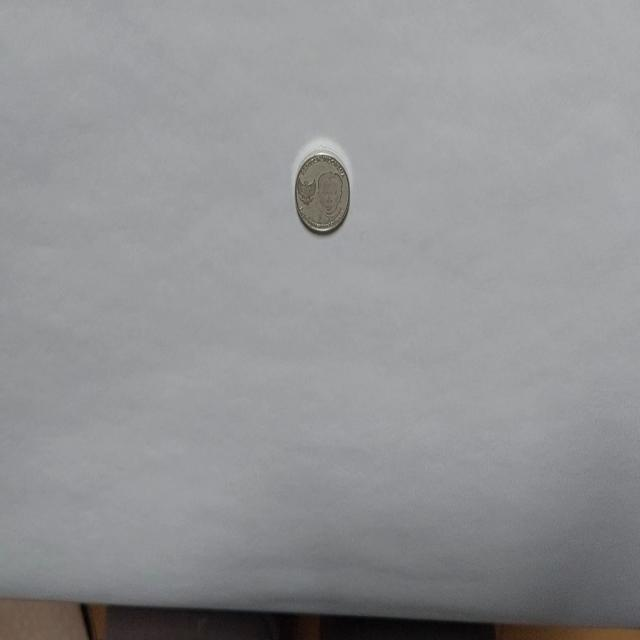seratus rupiah: (294, 148, 351, 235)
